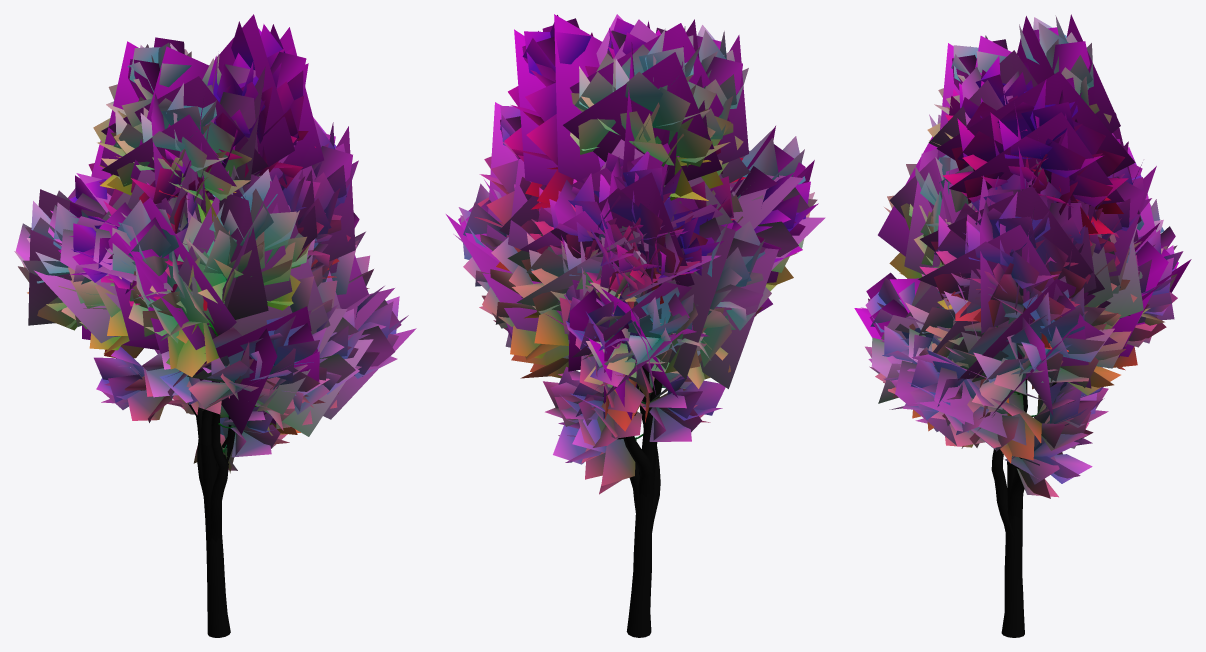
The model's file is bigleafmaple_mature.fbx.
3 views of the same model, side by side, from view 1: azimuth 30°, elevation 25°; view 2: azimuth 150°, elevation 25°; view 3: azimuth 270°, elevation 25° (orthographic). The views are drawn at different scales.
Parts seen in each view (by area): view 1: tree_branches_lod0, tree_shadow, tree_trunk_lod0; view 2: tree_branches_lod0, tree_shadow, tree_trunk_lod0; view 3: tree_branches_lod0, tree_shadow, tree_trunk_lod0.
Part boxes in pixels (left/top/right/bottom): tree_branches_lod0: left=14, top=21, right=408, bottom=473; tree_shadow: left=16, top=14, right=416, bottom=436; tree_trunk_lod0: left=188, top=319, right=235, bottom=637; tree_branches_lod0: left=453, top=15, right=818, bottom=494; tree_shadow: left=446, top=14, right=825, bottom=420; tree_trunk_lod0: left=617, top=367, right=662, bottom=637; tree_branches_lod0: left=861, top=15, right=1183, bottom=498; tree_shadow: left=854, top=14, right=1191, bottom=449; tree_trunk_lod0: left=991, top=379, right=1056, bottom=637.
Size of what is drawn, in the model's own units: 14.03 by 25.1 by 12.88.
